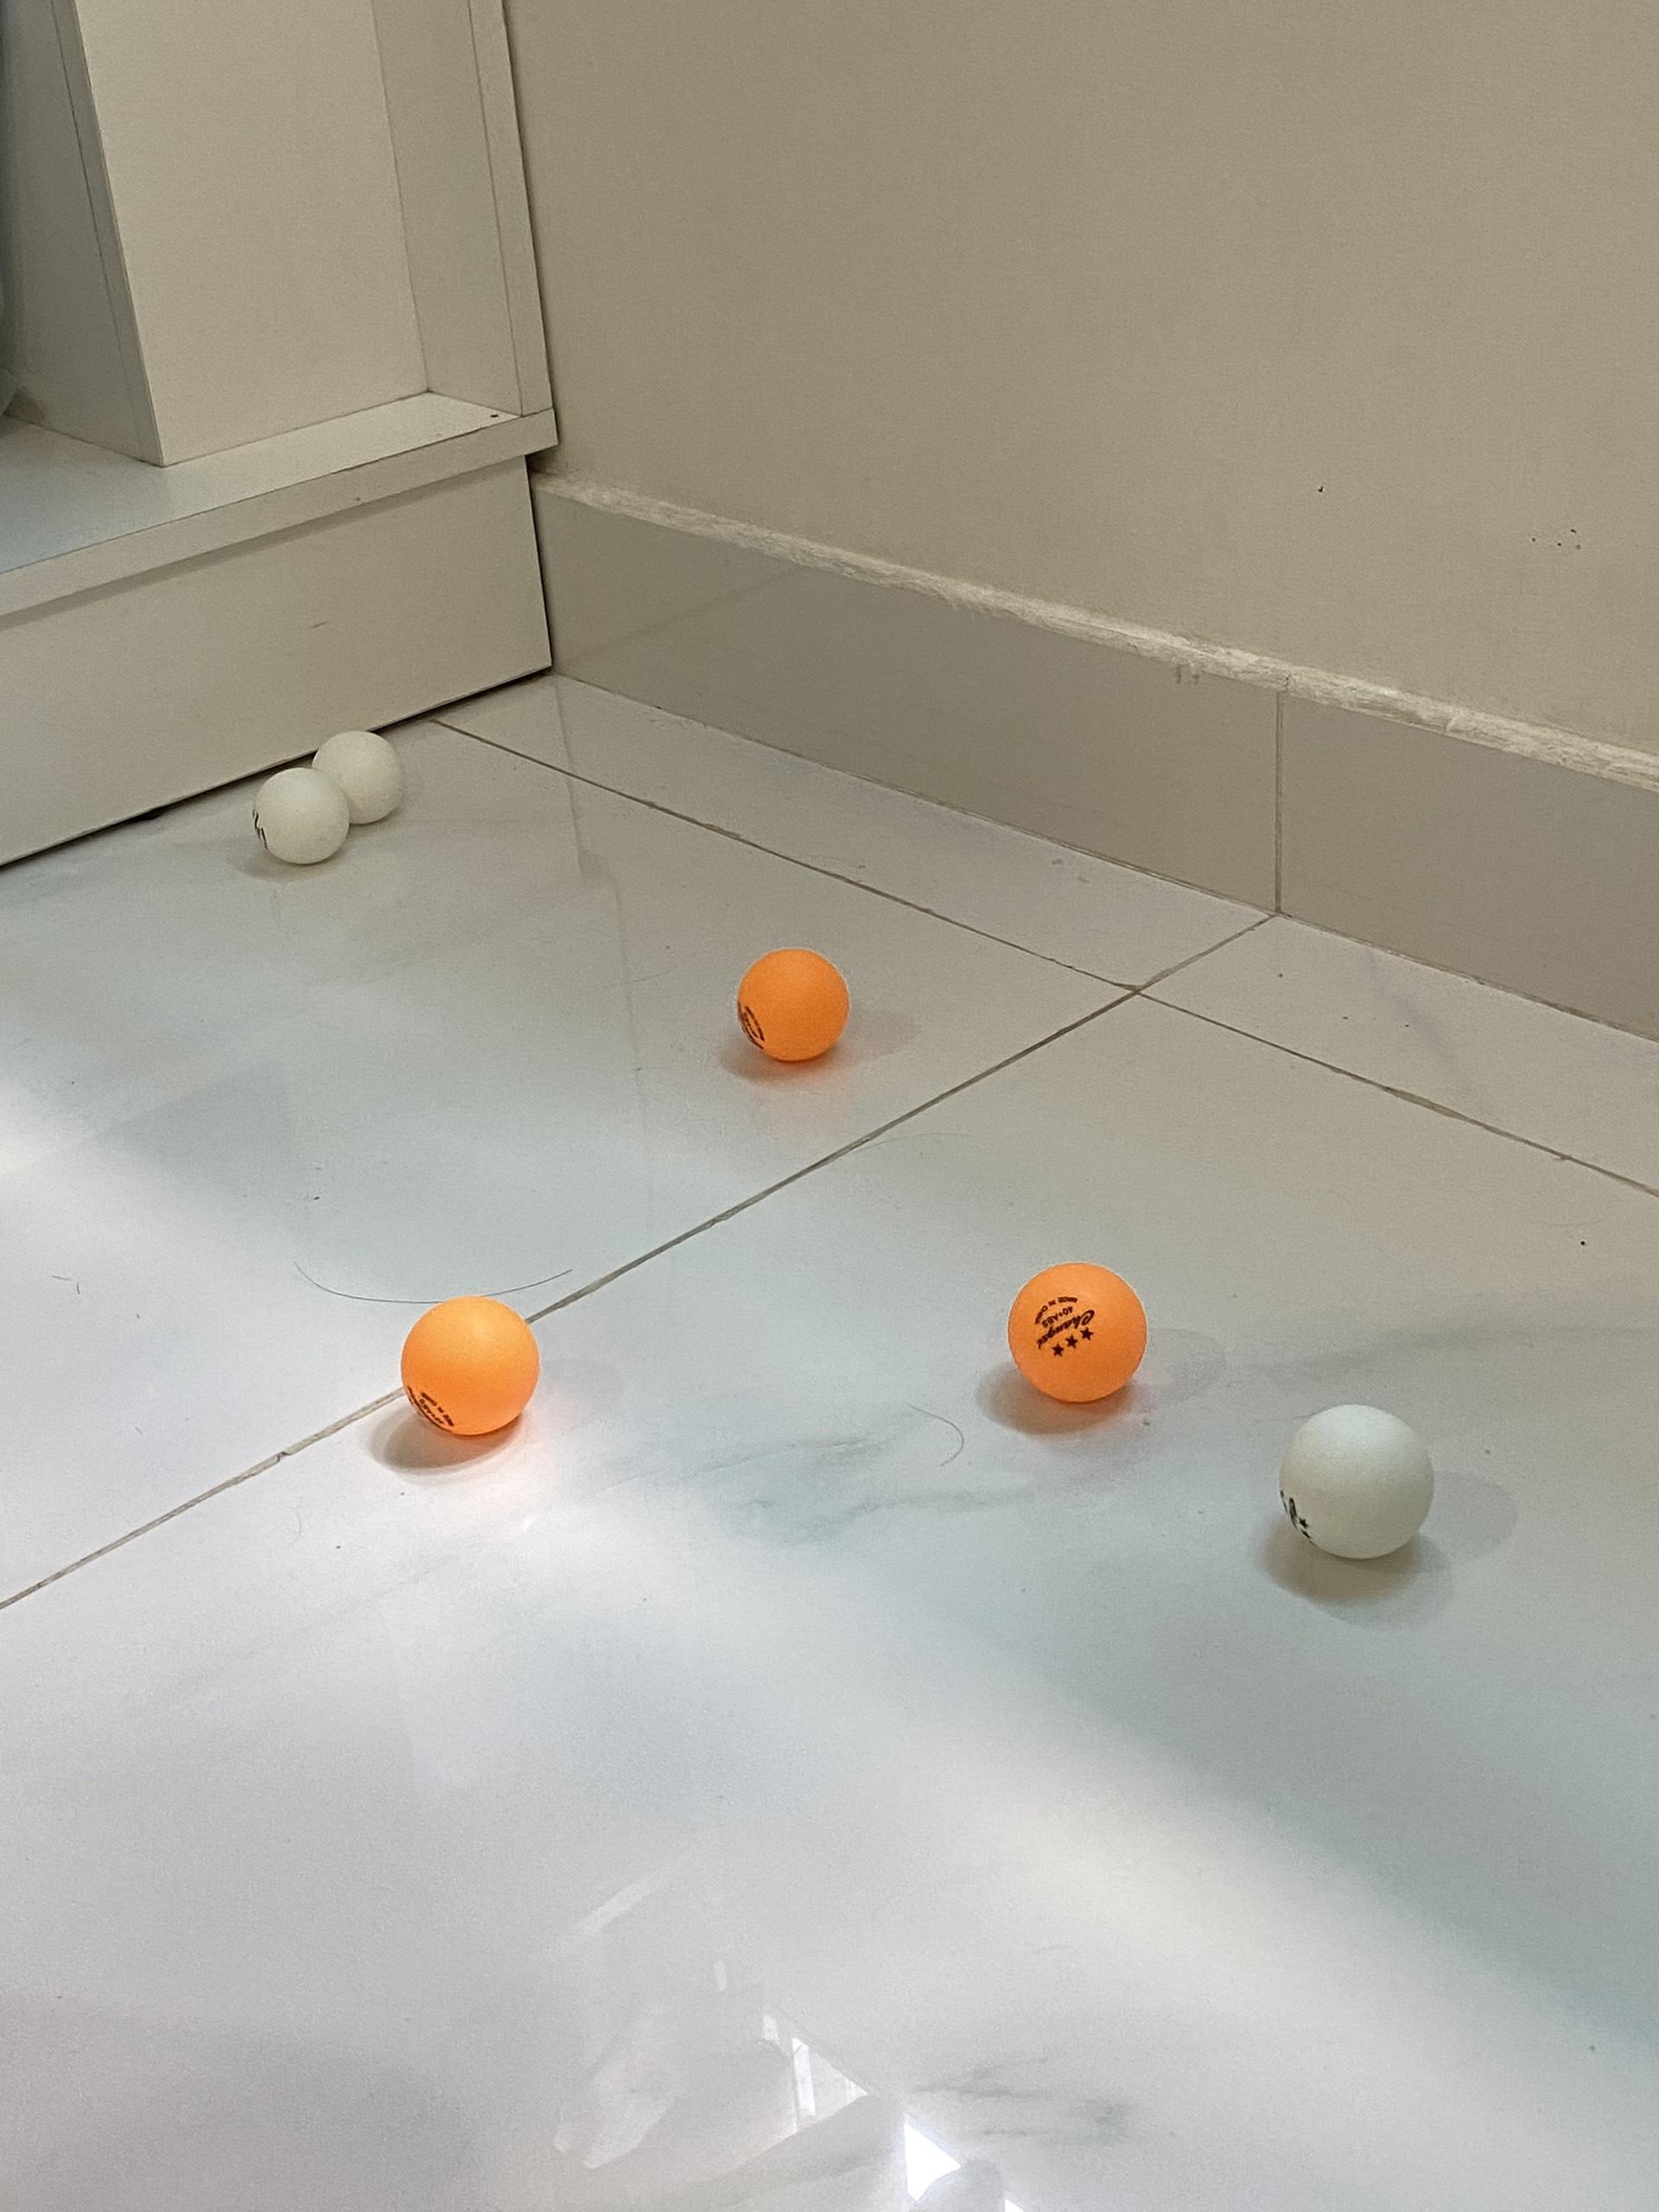oball: (406, 1296, 538, 1440), (1014, 1264, 1148, 1406), (734, 942, 852, 1062)
